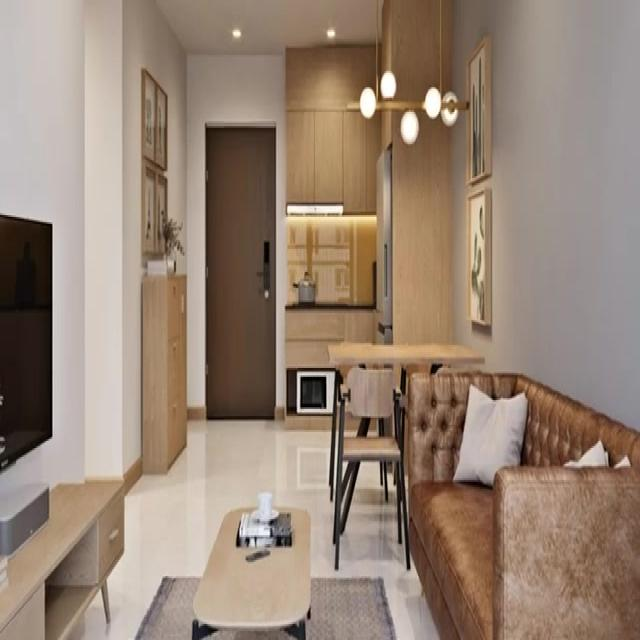door: (205, 123, 276, 420)
obstacle: (404, 366, 639, 638), (0, 478, 125, 638), (192, 503, 311, 638), (335, 367, 406, 572), (141, 274, 187, 474)
